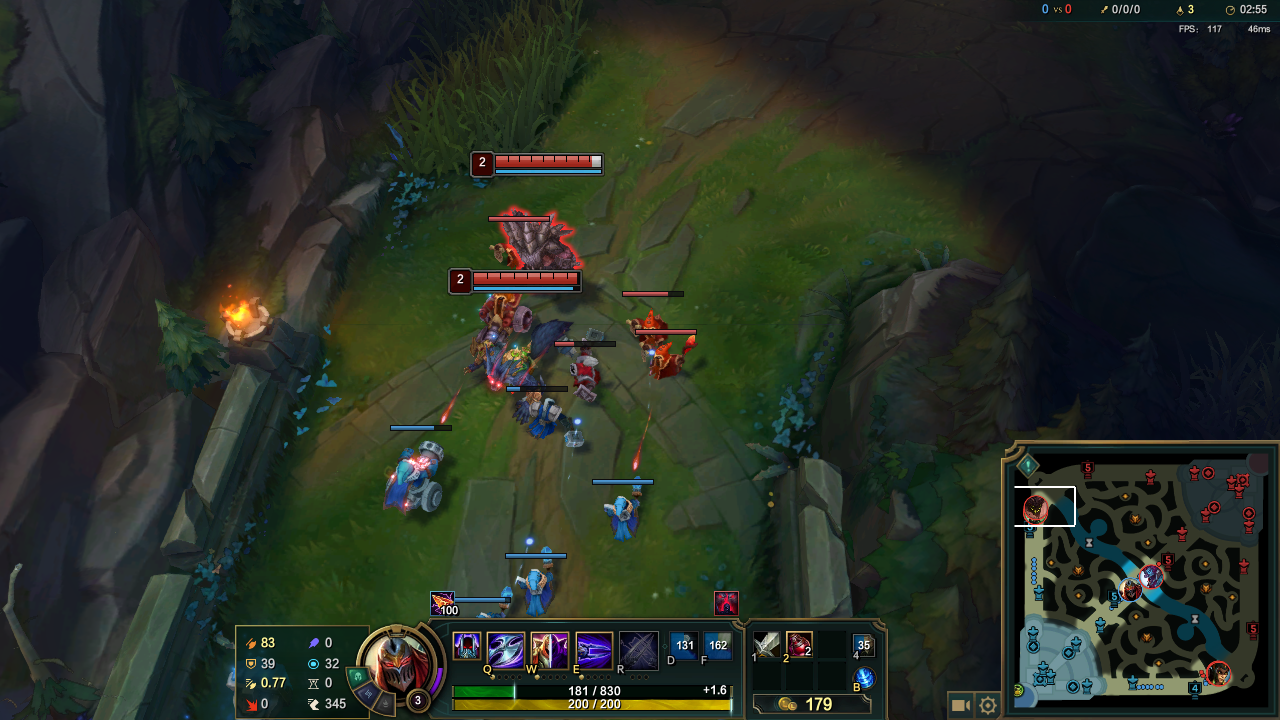DFYX: (492, 153, 602, 169), (471, 273, 581, 284)
WFXB: (365, 431, 458, 531)
Yita: (1185, 673, 1203, 700)
